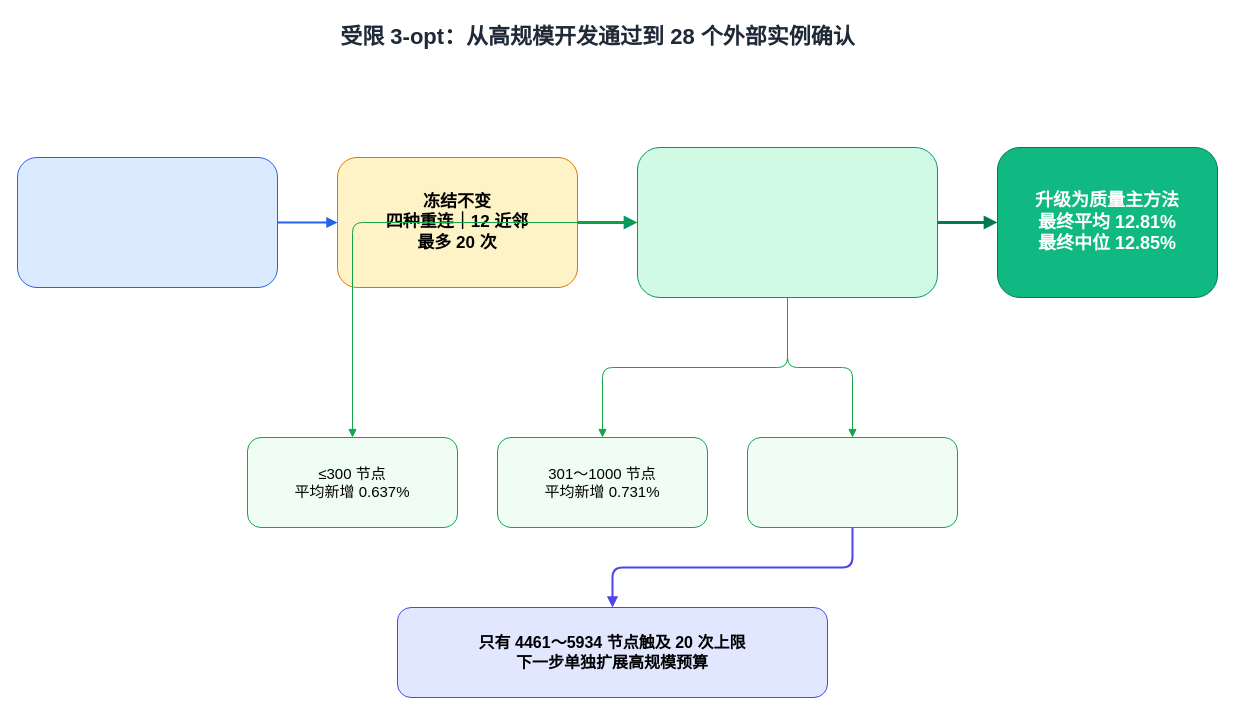
Some shapes in this 1235 by 715 pixel diagram are drawn without their labels. Here are the shapes that lost their labels. From the top down, the centre of each, then its label:
At [147,222]: "Stage CC 开发 3 例 3/3 改善 中位新增 0.482%".
At [787,222]: "外部 28 实例 23 改善｜5 不变｜0 变差 中位新增 0.314%".
At [852,482]: ">1000 节点 平均新增 0.455%".
